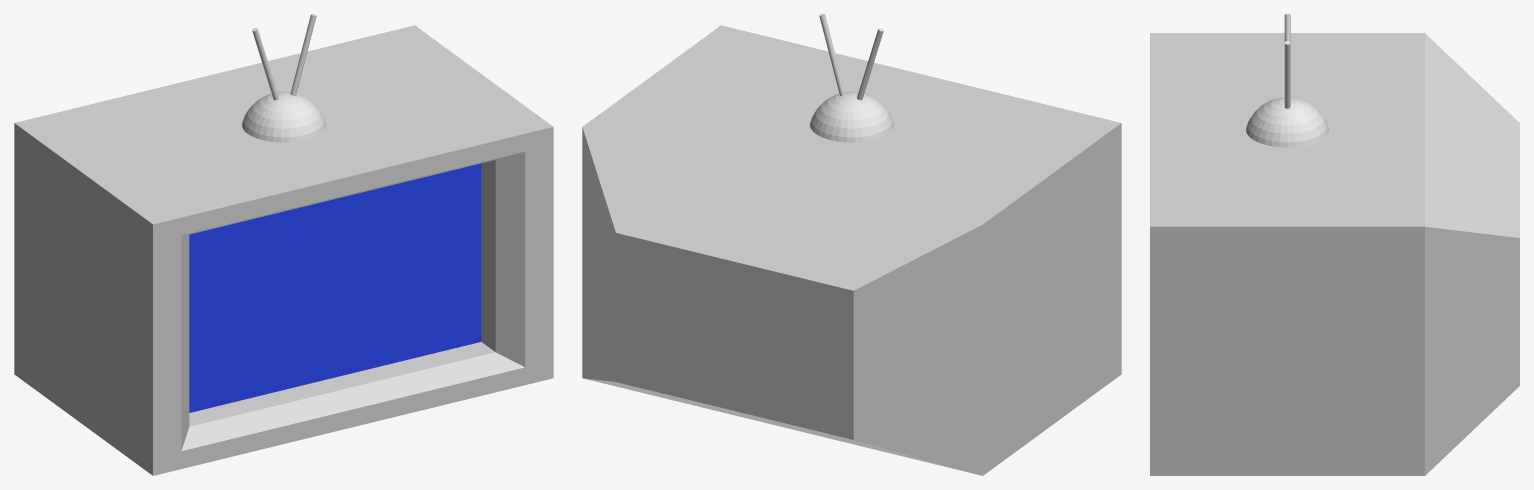
File: crt.glb
3 views of the same model, side by side, from view 1: azimuth 30°, elevation 25°; view 2: azimuth 150°, elevation 25°; view 3: azimuth 270°, elevation 25° (orthographic).
Visible parts, largest first — view 1: Cube, Cube.001, Sphere; view 2: Cube, Sphere; view 3: Cube, Sphere, Cylinder.001.
Boxes of the visible parts, bbox=[...] form: Cube: bbox=[14, 25, 553, 475]; Cube.001: bbox=[189, 163, 481, 412]; Sphere: bbox=[242, 91, 325, 142]; Cube: bbox=[582, 25, 1121, 475]; Sphere: bbox=[810, 91, 893, 142]; Cube: bbox=[1150, 33, 1519, 475]; Sphere: bbox=[1246, 97, 1329, 147]; Cylinder.001: bbox=[1284, 41, 1290, 108].
Bounding box in the file's own units: 4 × 3.39 × 3.23.
